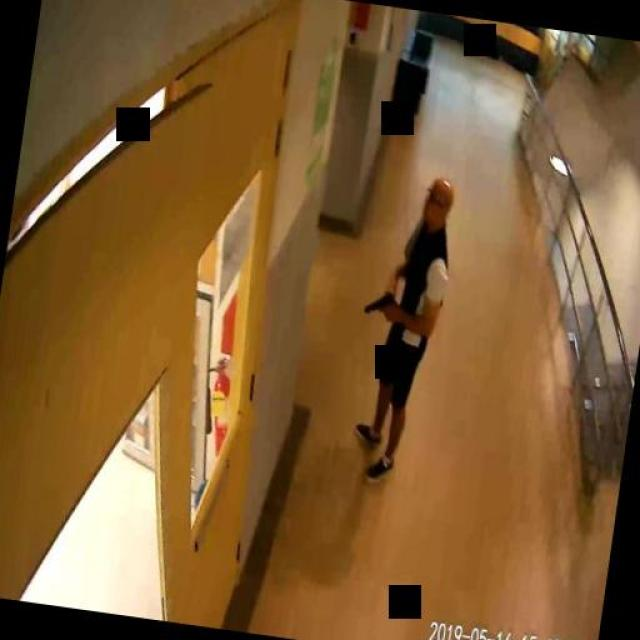gun: (363, 286, 395, 320)
